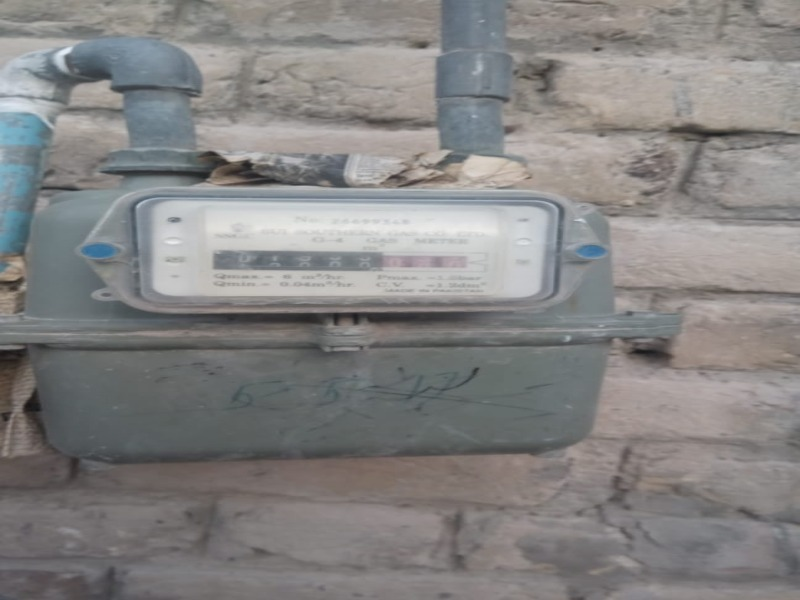ssgc: (208, 246, 474, 275)
